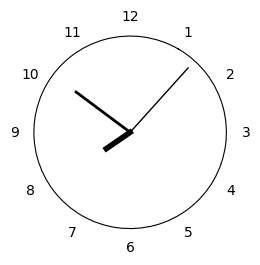12: (122, 9, 139, 23)
circle: (34, 36, 227, 228)
hours: (103, 131, 133, 151)
minutes: (74, 90, 130, 131)
seconds: (132, 67, 189, 128)
